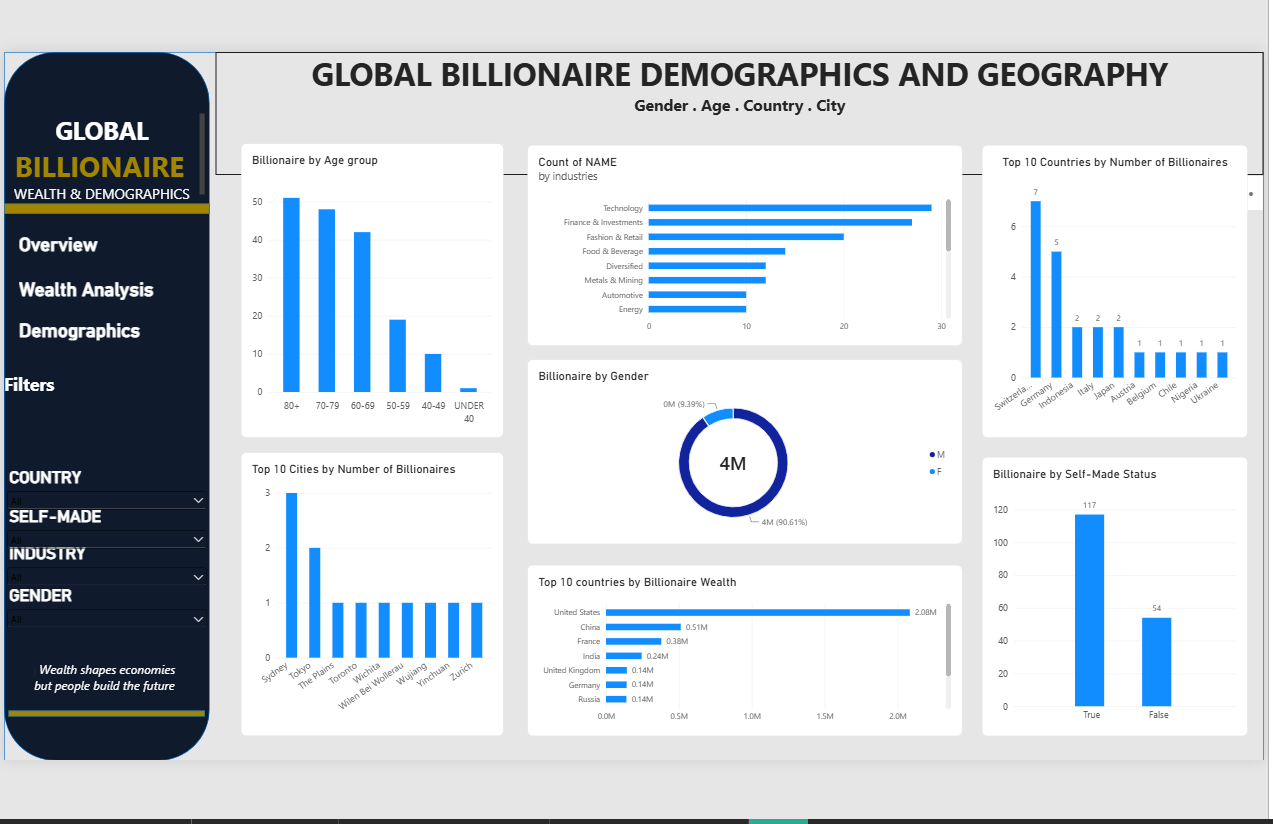

The dashboard page shown, as its layout file describes it:
{"tool":"powerbi","page":{"name":"DEMOGRAPHICS","canvas":[1920,1080],"ordinal":2},"visuals":[{"type":"shape","box":[0,0,1920,1081.1],"z":0},{"type":"clusteredBarChart","title":"Top 10 countries by Billionaire Wealth","fields":{"Category":["Table1__2.COUNTRY"],"Y":["Sum(Table1__2.finalWorth)"]},"box":[797.7,781.7,662.9,260.6],"z":1000},{"type":"shape","box":[0,0,313.3,1080],"z":2000},{"type":"textbox","box":[322.5,0,1597.5,187.5],"z":3000},{"type":"clusteredColumnChart","title":"Top 10 Countries by Number of Billionaires","fields":{"Category":["Table1__2.COUNTRY"],"Y":["CountNonNull(Table1__2.NAME)"]},"box":[1490.3,141.7,404.6,445.7],"z":4000},{"type":"donutChart","title":"Billionaire  by Gender","fields":{"Category":["Table1__2.gender"],"Y":["Sum(Table1__2.finalWorth)"]},"box":[797.7,468.6,662.9,281.1],"z":5000},{"type":"clusteredColumnChart","title":"Billionaire by Age group","fields":{"Category":["Table1__2.AGE GROUP"],"Y":["CountNonNull(Table1__2.NAME)"]},"box":[361.1,139.4,400,448],"z":6000},{"type":"clusteredColumnChart","title":"Top 10 Cities by Number of Billionaires","fields":{"Category":["Table1__2.CITY"],"Y":["CountNonNull(Table1__2.NAME)"]},"box":[361.1,610.3,400,432],"z":7000},{"type":"clusteredBarChart","fields":{"Category":["Table1__2.industries"],"Y":["CountNonNull(Table1__2.NAME)"]},"box":[797.7,141.7,662.9,306.3],"z":8000},{"type":"clusteredColumnChart","title":"Billionaire by Self-Made Status","fields":{"Category":["Table1__2.selfMade"],"Y":["CountNonNull(Table1__2.NAME)"]},"box":[1490.3,617.1,404.6,425.1],"z":9000},{"type":"slicer","title":"COUNTRY","fields":{"Values":["Table1__2.COUNTRY"]},"box":[0,632,314,90],"z":10000},{"type":"slicer","title":"COUNTRY","fields":{"Values":["Table1__2.gender"]},"box":[0,814,314,90],"z":11000},{"type":"slicer","title":"COUNTRY","fields":{"Values":["Table1__2.industries"]},"box":[0,750,314,90],"z":12000},{"type":"slicer","title":"COUNTRY","fields":{"Values":["Table1__2.selfMade"]},"box":[0,692,314,90],"z":13000},{"type":"shape","box":[6.9,1003.4,299.4,9.1],"z":14000},{"type":"textbox","box":[0,93.7,306.3,137.1],"z":15000},{"type":"textbox","box":[0,928,306.3,84.6],"z":16000},{"type":"textbox","box":[1770,188,150,182],"z":17000},{"type":"shape","box":[0,230.9,313.1,16],"z":18000},{"type":"textbox","box":[0,468.6,306.3,118.9],"z":19000},{"type":"actionButton","title":"Wealth Analysis","box":[22.9,345.1,269.7,43.4],"z":20000},{"type":"actionButton","title":"Demographics","box":[22.9,406.9,269.7,43.4],"z":21000},{"type":"actionButton","title":"Overview","box":[22.9,276.6,269.7,43.4],"z":22000}]}

Visuals, with their boxes on the page's 1920x1080 design canvas (x1, y1, x2, y2). These are canvas units, not pixel positions in the 1273x824 screenshot, which may show the page scaled, cropped or inside an application window:
shape: (left=0, top=0, right=1920, bottom=1081)
"Top 10 countries by Billionaire Wealth" clusteredBarChart: (left=798, top=782, right=1461, bottom=1042)
shape: (left=0, top=0, right=313, bottom=1080)
textbox: (left=322, top=0, right=1920, bottom=188)
"Top 10 Countries by Number of Billionaires" clusteredColumnChart: (left=1490, top=142, right=1895, bottom=587)
"Billionaire  by Gender" donutChart: (left=798, top=469, right=1461, bottom=750)
"Billionaire by Age group" clusteredColumnChart: (left=361, top=139, right=761, bottom=587)
"Top 10 Cities by Number of Billionaires" clusteredColumnChart: (left=361, top=610, right=761, bottom=1042)
clusteredBarChart - Table1__2.industries x CountNonNull(Table1__2.NAME): (left=798, top=142, right=1461, bottom=448)
"Billionaire by Self-Made Status" clusteredColumnChart: (left=1490, top=617, right=1895, bottom=1042)
"COUNTRY" slicer: (left=0, top=632, right=314, bottom=722)
"COUNTRY" slicer: (left=0, top=814, right=314, bottom=904)
"COUNTRY" slicer: (left=0, top=750, right=314, bottom=840)
"COUNTRY" slicer: (left=0, top=692, right=314, bottom=782)
shape: (left=7, top=1003, right=306, bottom=1012)
textbox: (left=0, top=94, right=306, bottom=231)
textbox: (left=0, top=928, right=306, bottom=1013)
textbox: (left=1770, top=188, right=1920, bottom=370)
shape: (left=0, top=231, right=313, bottom=247)
textbox: (left=0, top=469, right=306, bottom=588)
"Wealth Analysis" actionButton: (left=23, top=345, right=293, bottom=388)
"Demographics" actionButton: (left=23, top=407, right=293, bottom=450)
"Overview" actionButton: (left=23, top=277, right=293, bottom=320)
